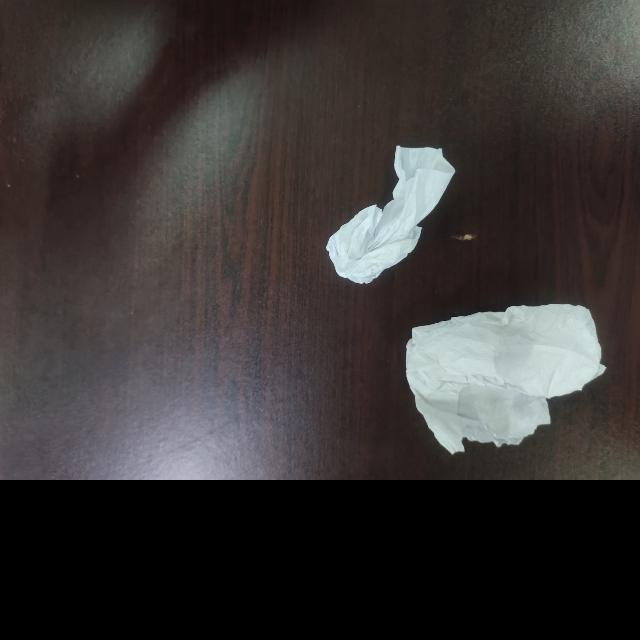kitchen paper: (402, 300, 612, 459), (322, 140, 462, 285)
